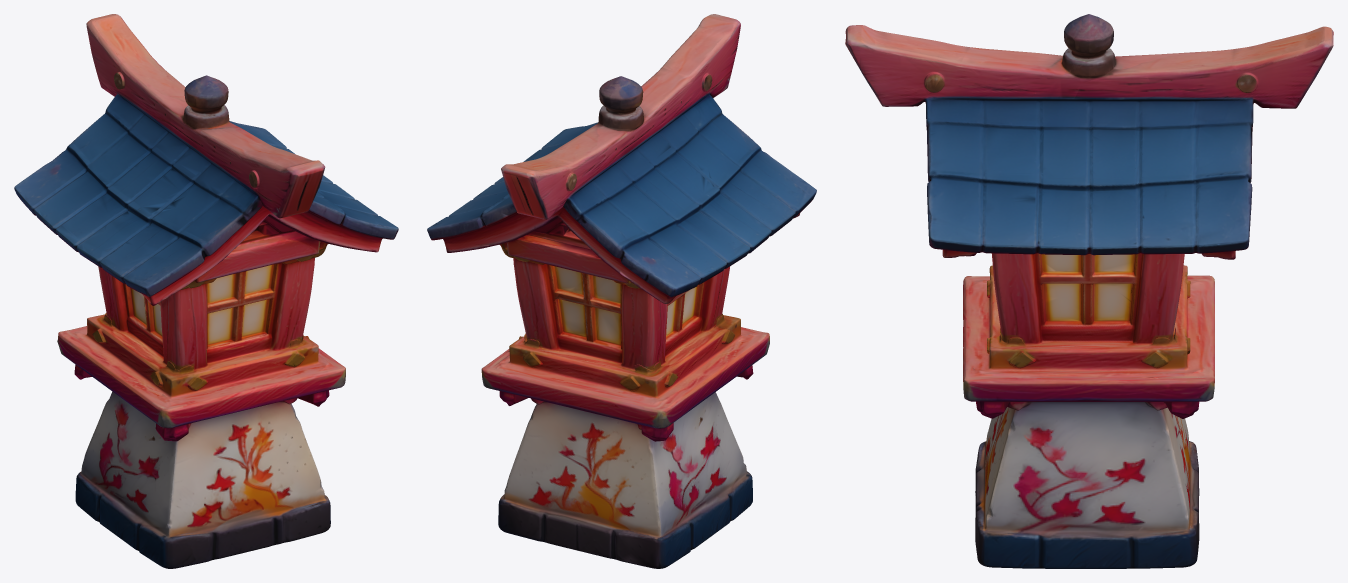
File: linter_asia.glb
The picture shows the model from 3 angles, left to right: view 1: azimuth 30°, elevation 25°; view 2: azimuth 150°, elevation 25°; view 3: azimuth 270°, elevation 25°; orthographic projection. The views are drawn at different scales.
Visible parts, largest first — view 1: material.004; view 2: material.004; view 3: material.004.
Boxes of the visible parts, x1=… form: material.004: x1=14, y1=14, x2=398, y2=568; material.004: x1=427, y1=14, x2=816, y2=568; material.004: x1=845, y1=14, x2=1333, y2=568.
Bounding box in the file's own units: 0.5843 × 0.9487 × 0.8221.
Materials: 1 (1 with a texture image).
